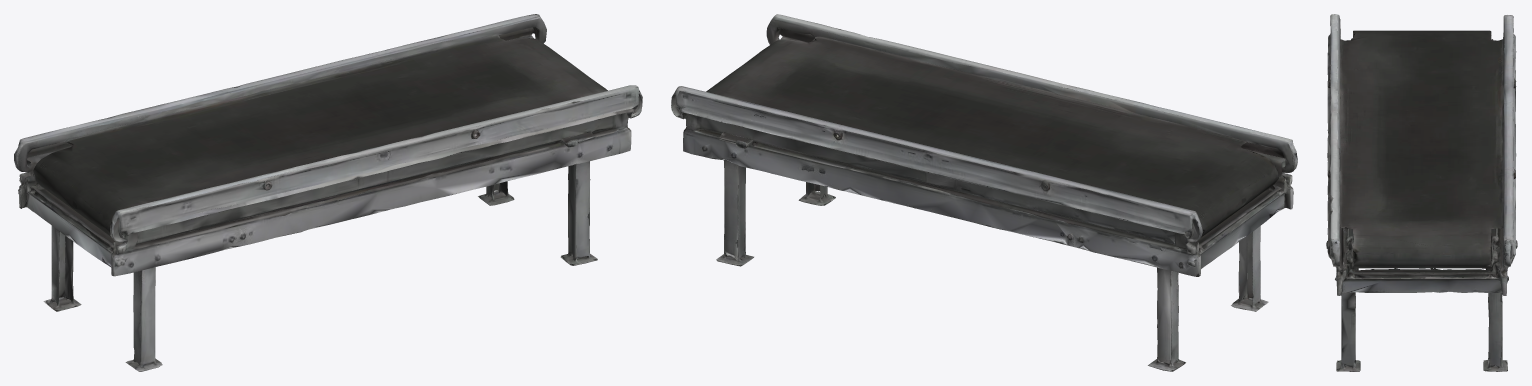
The model's file is prop-conveyor.glb.
3 renders of one model, left to right at view 1: azimuth 30°, elevation 25°; view 2: azimuth 150°, elevation 25°; view 3: azimuth 270°, elevation 25°, orthographic. The views are drawn at different scales.
Visible parts, largest first — view 1: Mesh_0; view 2: Mesh_0; view 3: Mesh_0.
Part boxes in pixels (x1=…): Mesh_0: x1=14, y1=14, x2=642, y2=371; Mesh_0: x1=671, y1=14, x2=1297, y2=371; Mesh_0: x1=1326, y1=14, x2=1517, y2=371.
Size of the model in its own units: 1 by 0.3008 by 0.3504.
1 material, 1 textured.
